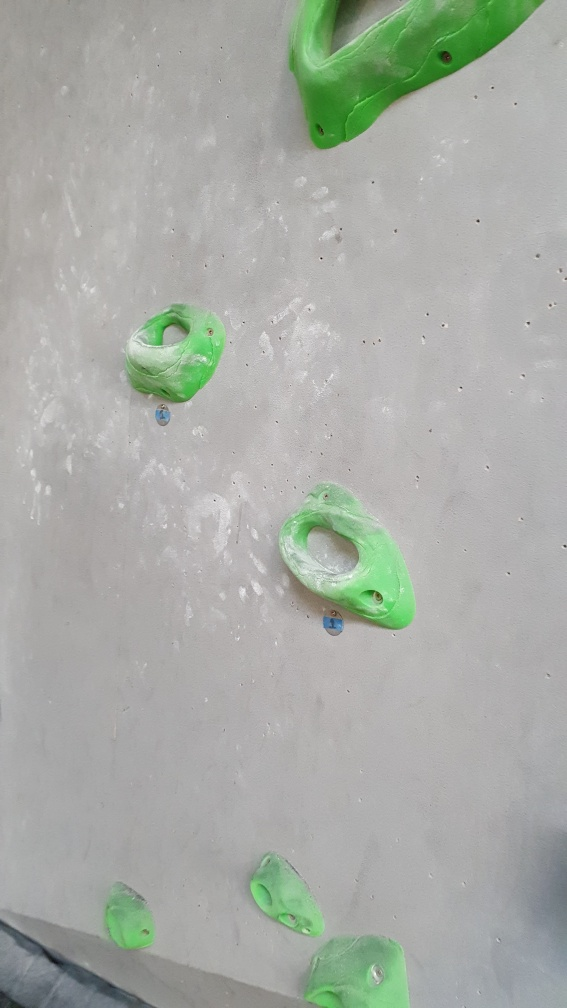Hand Start: (319, 607, 347, 639), (151, 404, 175, 429)
Pocket: (283, 1, 545, 155), (280, 482, 421, 631), (121, 303, 228, 404)
